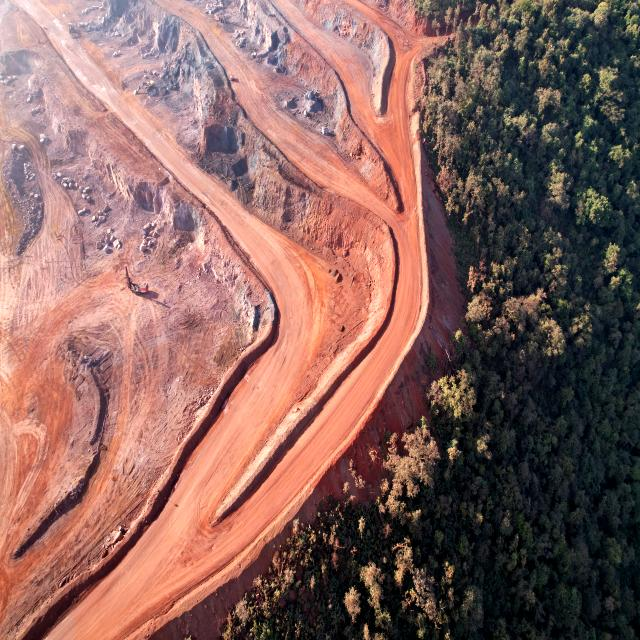Blast rig: (122, 263, 149, 295), (214, 2, 228, 23)
Excavator: (134, 80, 155, 94), (68, 21, 76, 39)
